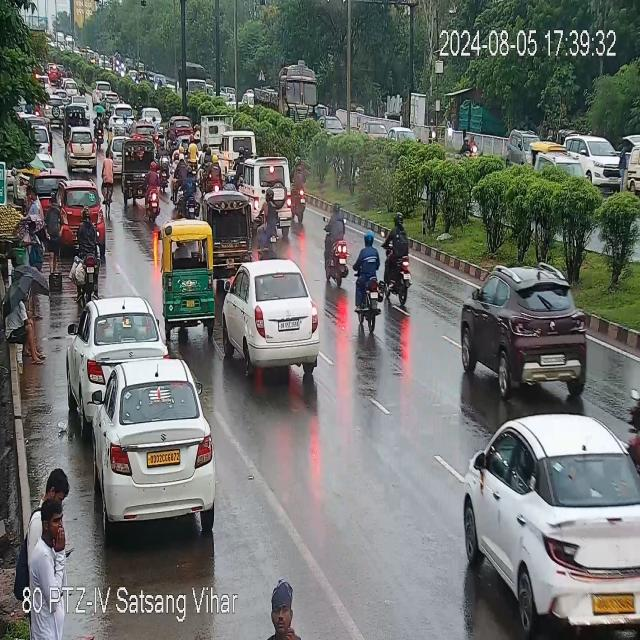2-wheelers: (354, 228, 381, 331), (384, 211, 411, 307), (75, 206, 103, 298), (324, 204, 348, 278), (172, 151, 197, 214), (145, 160, 161, 221), (156, 143, 172, 192), (173, 130, 196, 164), (103, 151, 112, 213), (96, 114, 106, 148), (166, 120, 174, 149), (126, 119, 136, 140), (152, 116, 158, 146), (103, 96, 109, 120), (78, 81, 85, 95)
auto: (160, 222, 220, 332), (203, 190, 254, 269), (200, 129, 253, 177), (243, 160, 288, 200), (124, 138, 143, 202), (531, 132, 560, 166), (63, 105, 87, 129), (110, 111, 133, 135), (110, 105, 133, 121)
car: (467, 405, 640, 624), (91, 358, 217, 528), (446, 269, 586, 392), (220, 263, 321, 374), (72, 296, 164, 391), (573, 128, 622, 195), (54, 187, 109, 241), (68, 126, 95, 172), (113, 134, 126, 176), (44, 94, 61, 124), (169, 115, 193, 136), (141, 106, 161, 127), (134, 122, 155, 140), (93, 80, 108, 104), (37, 123, 50, 150), (102, 92, 120, 105), (64, 80, 78, 95)
pedestrian: (36, 465, 74, 556), (7, 289, 43, 366), (263, 580, 305, 630), (24, 218, 42, 314), (24, 186, 46, 229)
